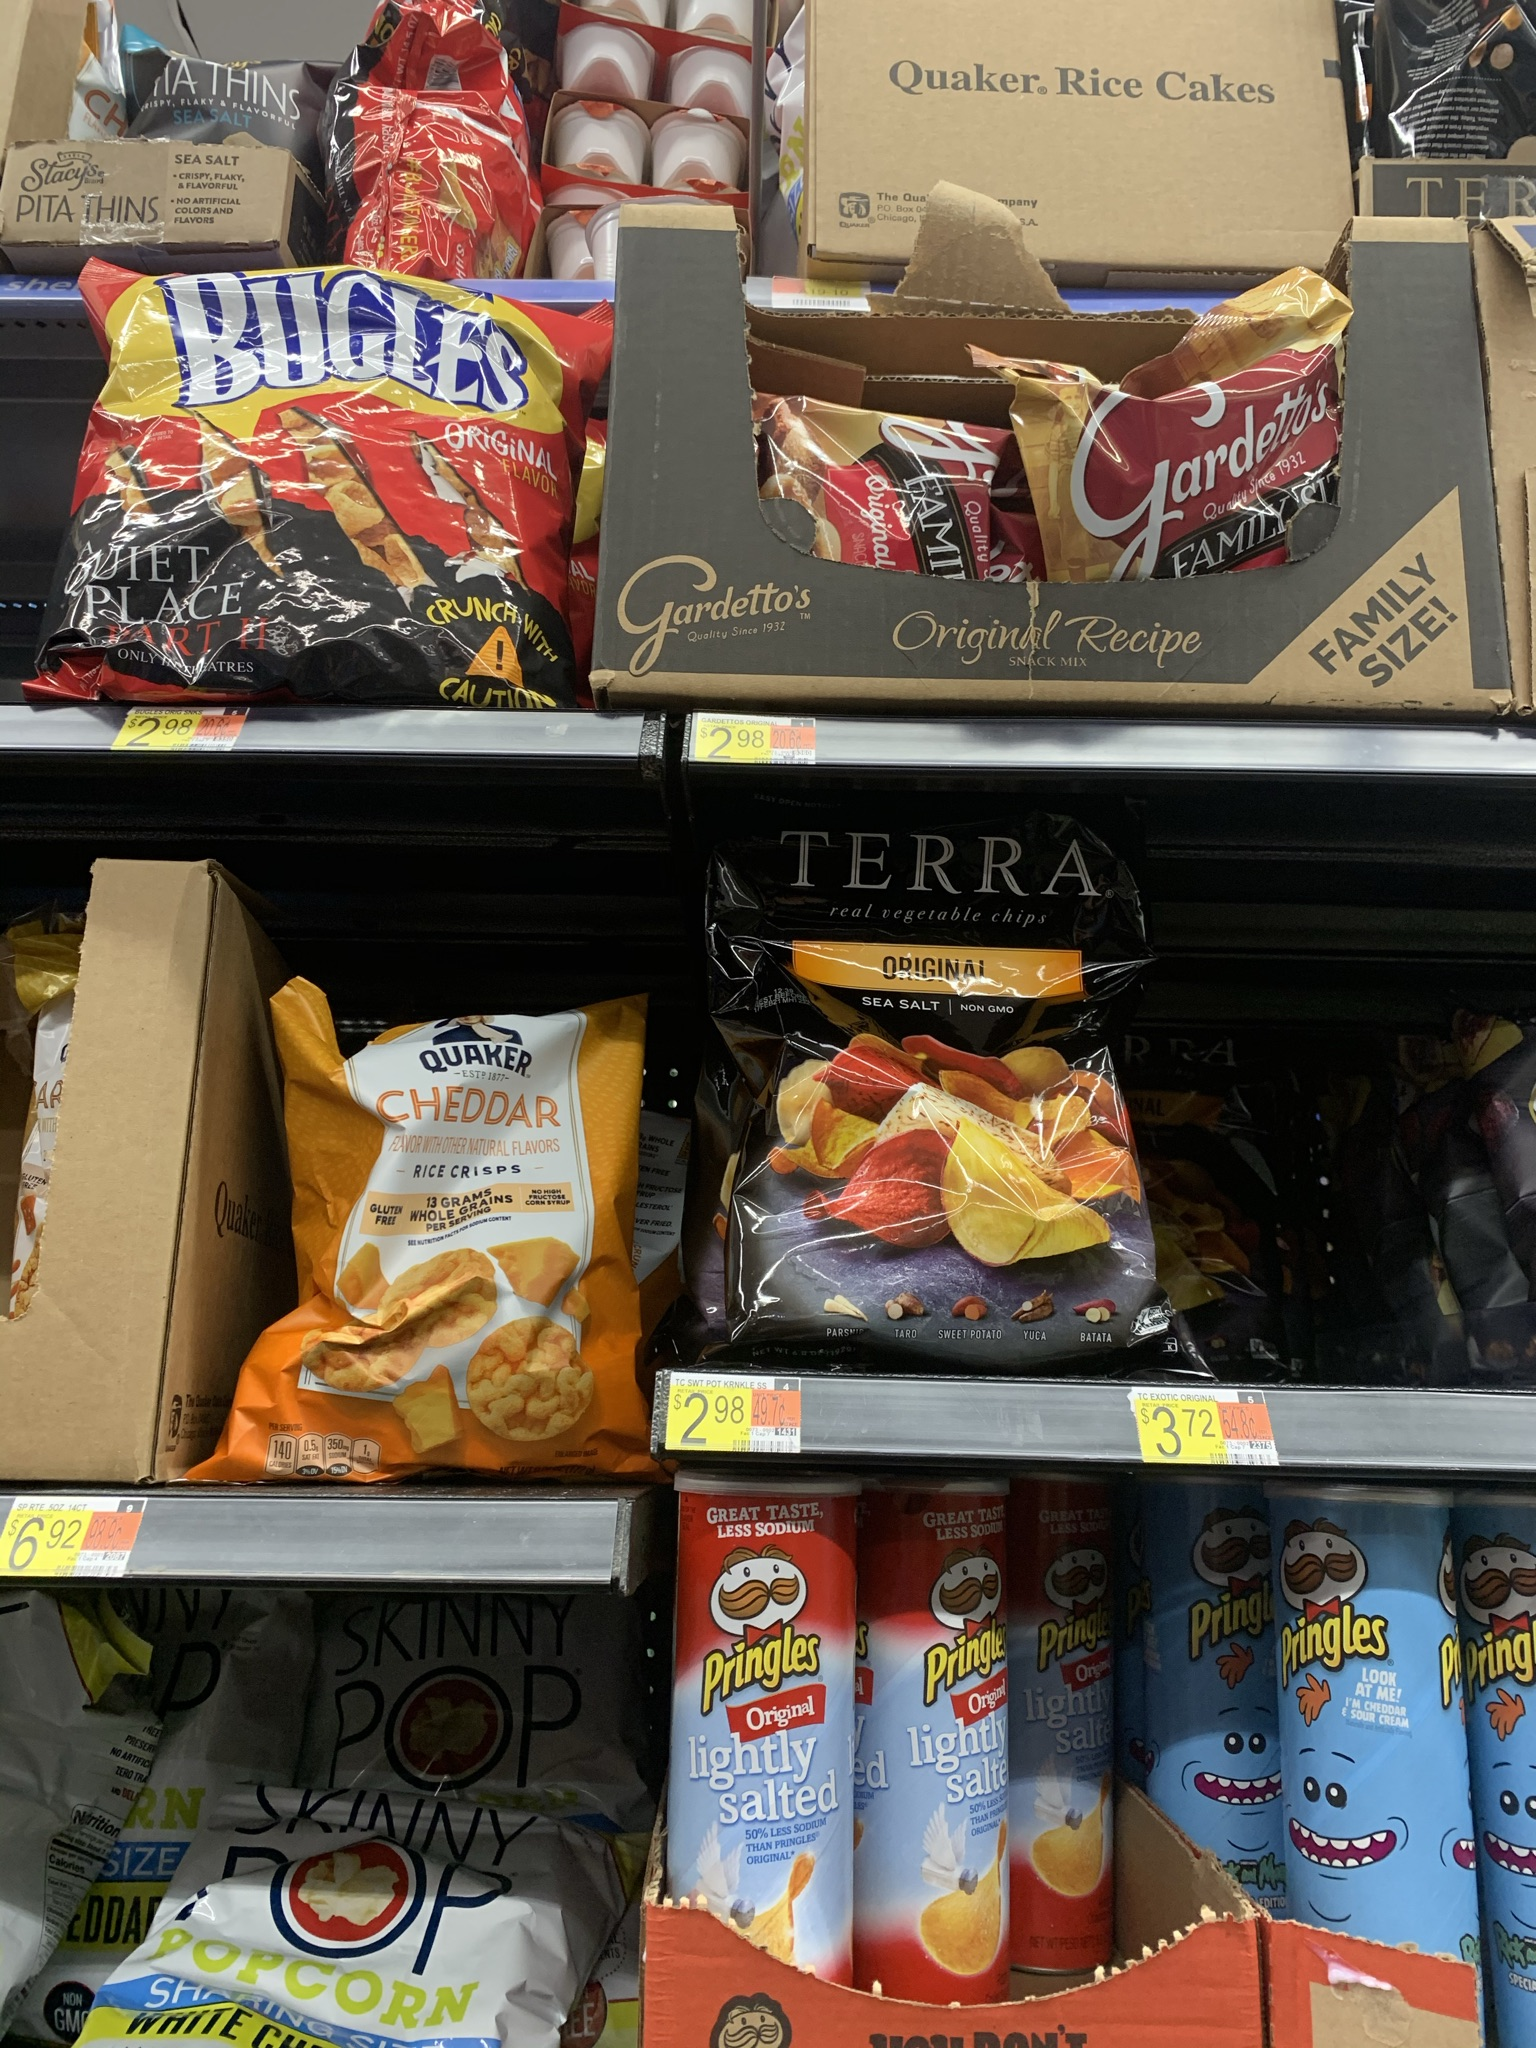Chips: (691, 806, 1167, 1377), (74, 247, 582, 727), (253, 940, 649, 1496), (1270, 1476, 1473, 1969), (674, 1472, 865, 1988), (860, 1464, 1021, 1995)
